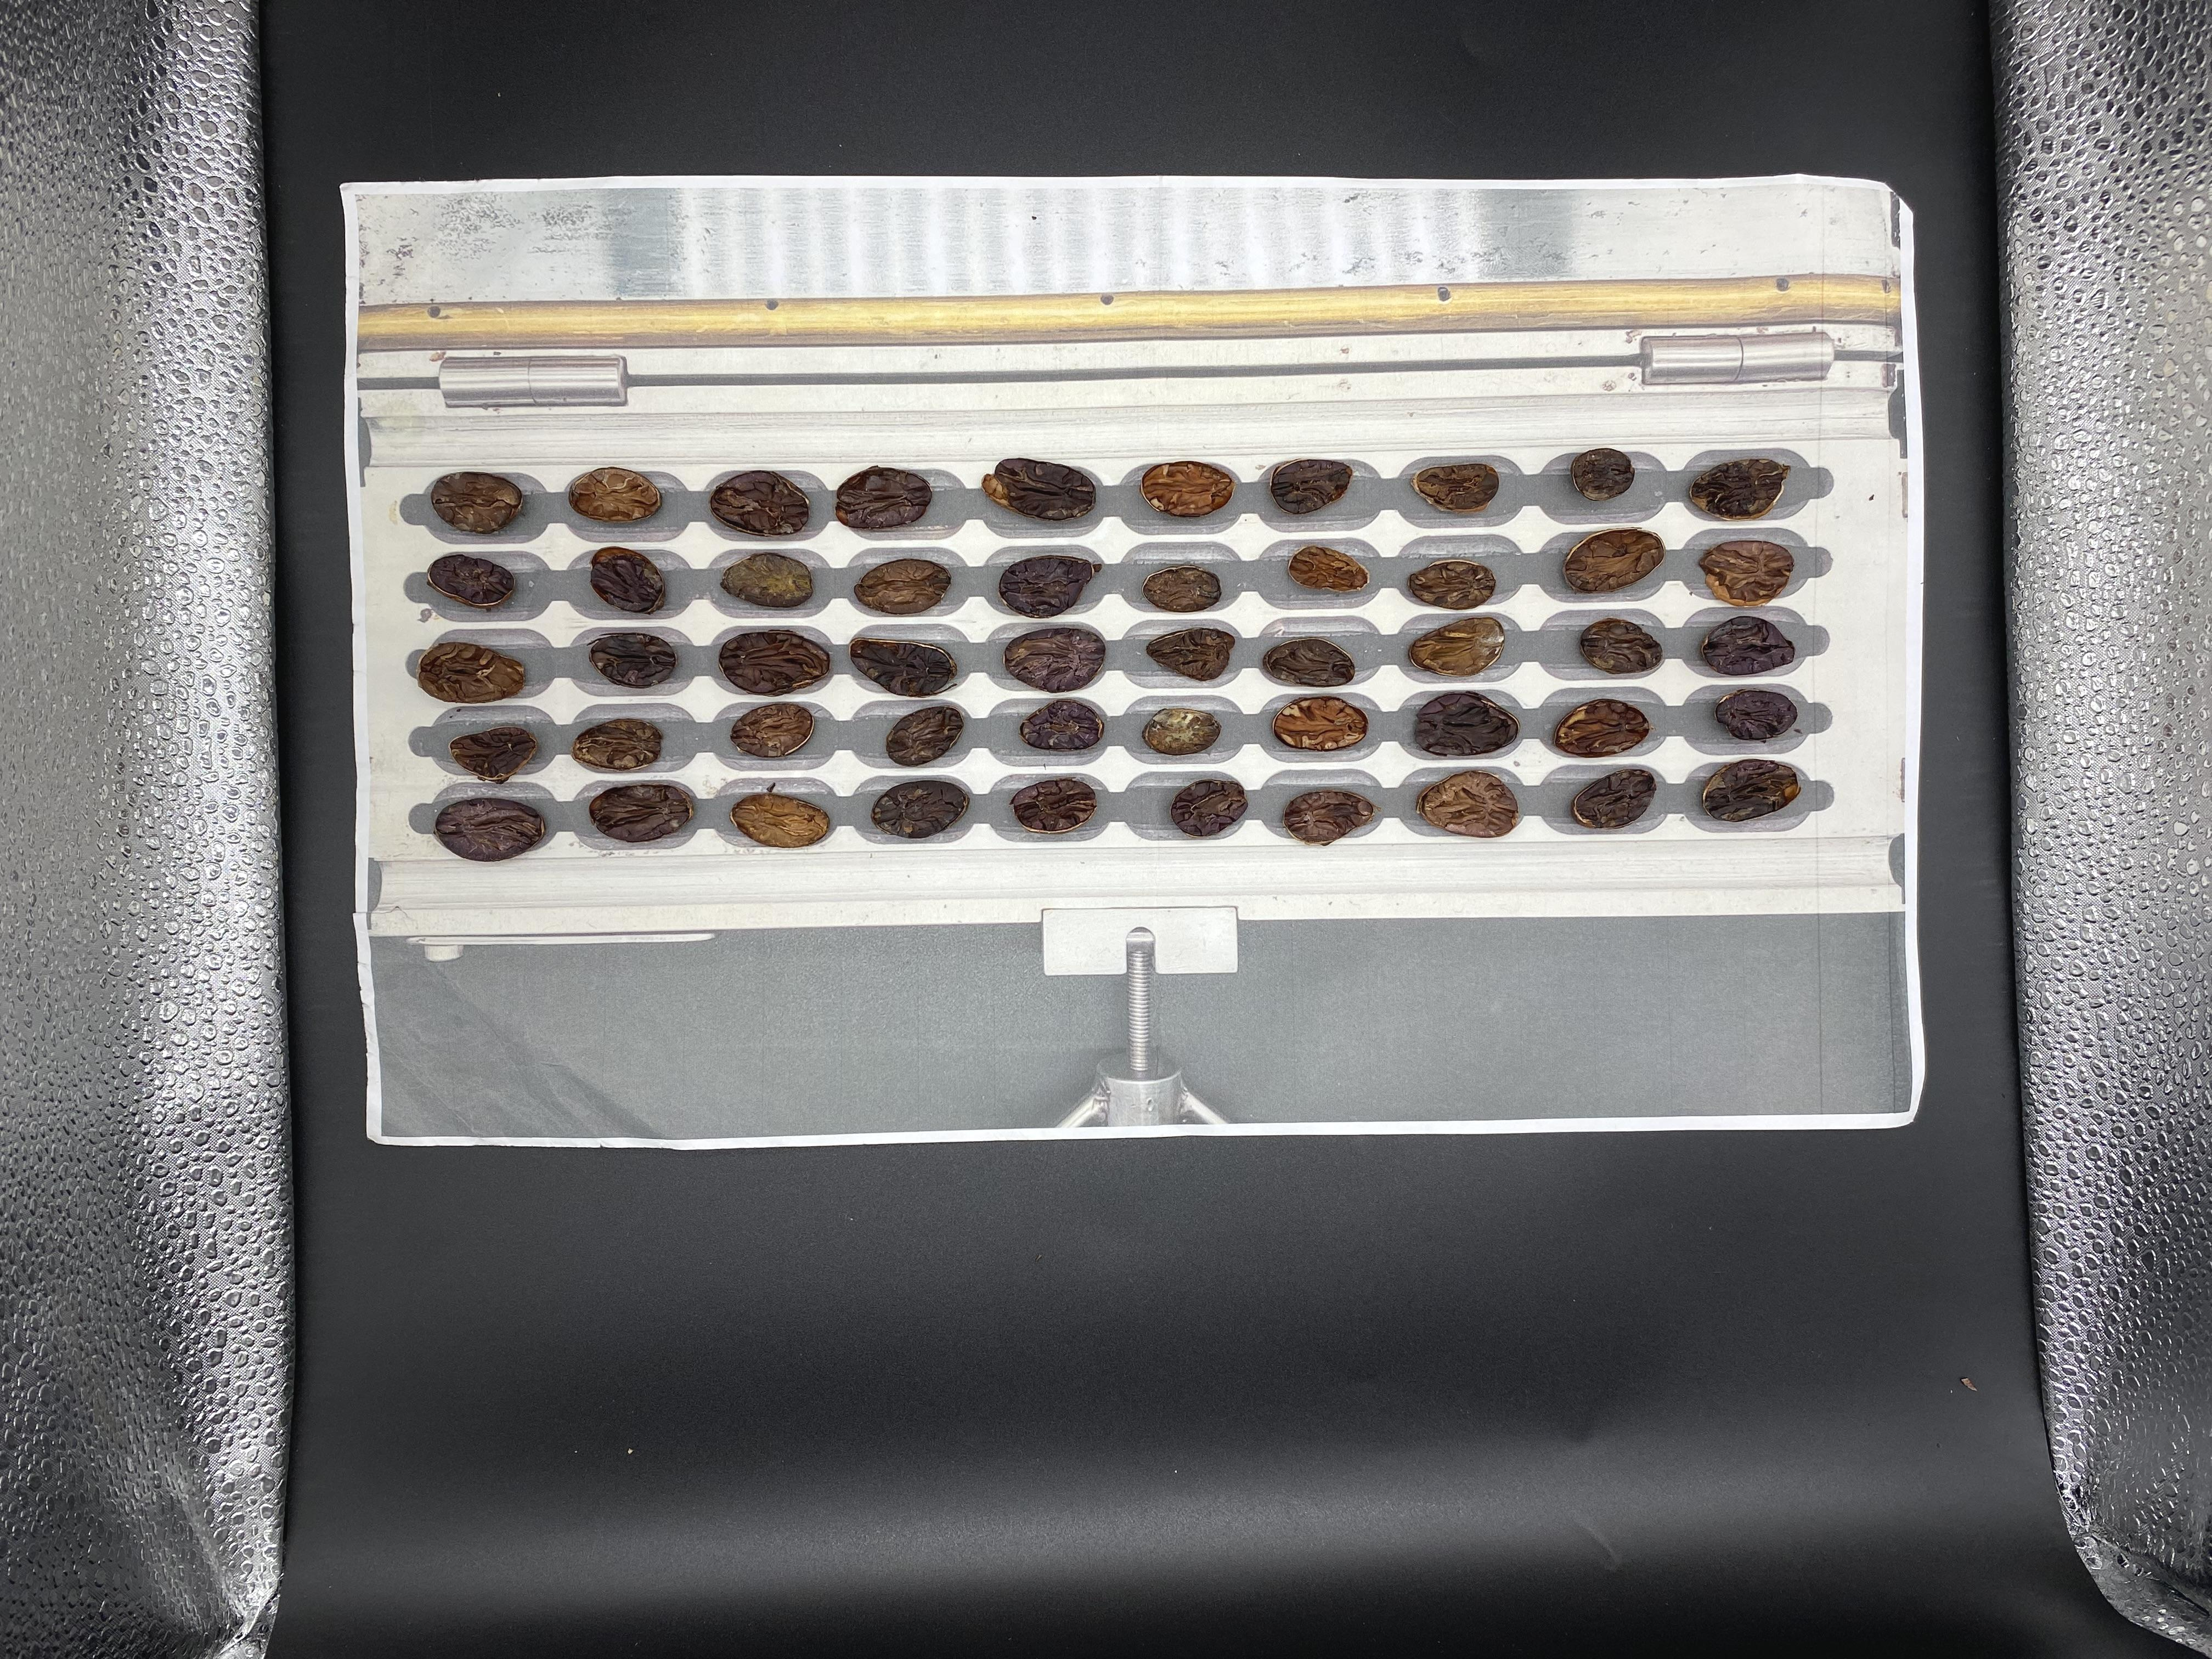Brown - G1: (364, 1133, 421, 1169), (787, 1171, 841, 1206), (862, 1091, 913, 1124), (644, 1169, 697, 1199), (578, 1053, 627, 1082), (293, 1180, 338, 1211), (714, 1103, 763, 1127), (653, 1094, 698, 1121)
Brown - G2: (212, 1141, 270, 1178), (719, 1209, 775, 1243), (369, 1171, 416, 1206), (289, 1054, 338, 1086), (651, 1218, 702, 1248), (583, 1136, 629, 1164)
Brown - G3: (434, 1094, 484, 1134), (214, 1056, 270, 1089), (794, 1086, 846, 1121), (371, 1216, 423, 1249), (718, 1053, 765, 1079)
Brown - G4: (580, 1105, 622, 1131)
Insect-damaged: (362, 1098, 416, 1126)
Mouldy: (716, 1129, 766, 1162), (582, 1176, 622, 1204)
Partly Purple - G1: (716, 1171, 773, 1204), (512, 1213, 557, 1243)
Partly Purple - G2: (507, 1134, 564, 1171), (425, 1051, 477, 1091), (300, 1211, 354, 1248), (432, 1138, 488, 1173), (866, 1202, 914, 1239), (798, 1208, 843, 1243), (594, 1211, 636, 1246), (643, 1051, 690, 1080)
Total Purple - G2: (864, 1131, 913, 1162), (519, 1173, 563, 1202)
Total Purple - G3: (219, 1222, 279, 1256), (502, 1101, 561, 1133), (214, 1094, 263, 1129), (871, 1168, 916, 1195)
Very Dark Brown - G1: (498, 1049, 561, 1084), (855, 1049, 911, 1082), (298, 1094, 338, 1129)
Very Dark Brown - G2: (361, 1054, 413, 1094), (294, 1138, 345, 1169), (226, 1187, 273, 1218), (448, 1178, 491, 1211), (803, 1131, 846, 1162)
Very Dark Brown - G3: (442, 1211, 493, 1246), (643, 1140, 690, 1169), (798, 1044, 831, 1075)
